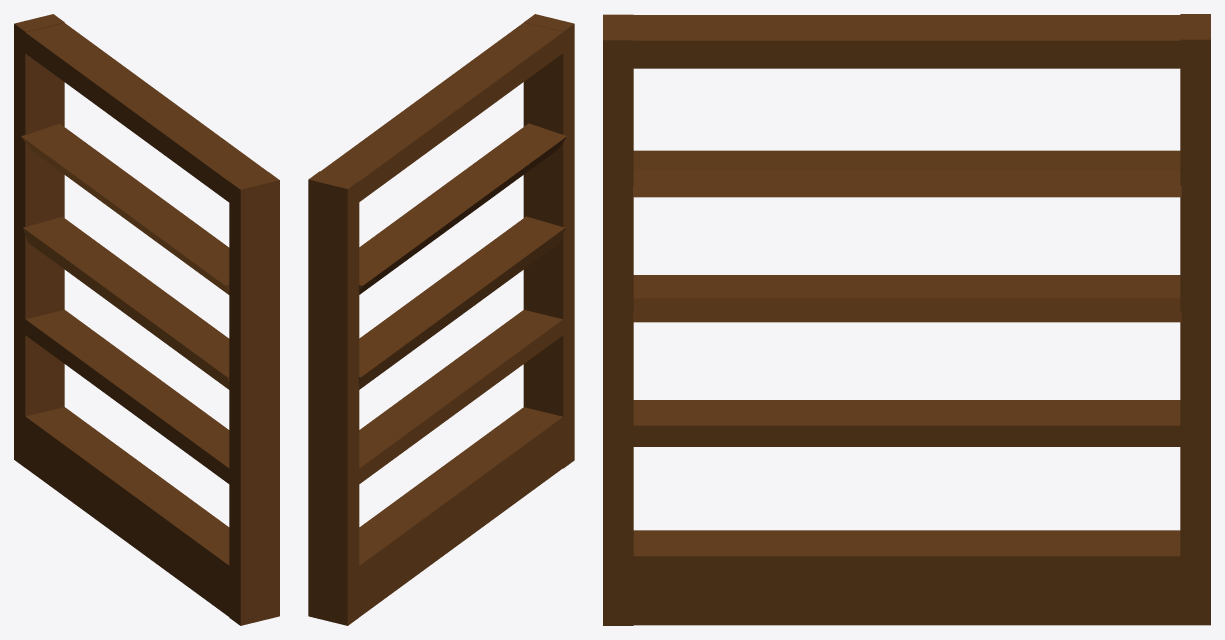
Rendered from bigbookshelf.fbx.
The picture shows the model from 3 angles, left to right: view 1: azimuth 30°, elevation 25°; view 2: azimuth 150°, elevation 25°; view 3: azimuth 270°, elevation 25°; orthographic projection. The views are drawn at different scales.
Visible parts, largest first — view 1: Cube.003, Cube.001, Cube.004, Cube.007, Cube.006, Cube.002, Cube.005; view 2: Cube.004, Cube.001, Cube.003, Cube.007, Cube.006, Cube.002, Cube.005; view 3: Cube.001, Cube.007, Cube.002, Cube.005, Cube.006, Cube.003, Cube.004.
Part boxes in pixels (left/top/right/bottom): Cube.003: left=229, top=172, right=279, bottom=625; Cube.001: left=25, top=407, right=229, bottom=616; Cube.004: left=14, top=14, right=64, bottom=467; Cube.007: left=25, top=23, right=267, bottom=202; Cube.006: left=25, top=310, right=229, bottom=483; Cube.002: left=23, top=216, right=229, bottom=389; Cube.005: left=21, top=123, right=229, bottom=294; Cube.004: left=308, top=171, right=359, bottom=625; Cube.001: left=358, top=407, right=563, bottom=617; Cube.003: left=523, top=14, right=574, bottom=468; Cube.007: left=321, top=22, right=563, bottom=202; Cube.006: left=358, top=310, right=563, bottom=484; Cube.002: left=358, top=216, right=565, bottom=389; Cube.005: left=358, top=123, right=566, bottom=294; Cube.001: left=633, top=530, right=1181, bottom=625; Cube.007: left=633, top=15, right=1181, bottom=68; Cube.002: left=633, top=275, right=1181, bottom=322; Cube.005: left=633, top=150, right=1181, bottom=197; Cube.006: left=633, top=400, right=1181, bottom=446; Cube.003: left=603, top=14, right=633, bottom=625; Cube.004: left=1180, top=14, right=1210, bottom=625.
Bounding box in the file's own units: 0.4807 × 4.24 × 3.99.
